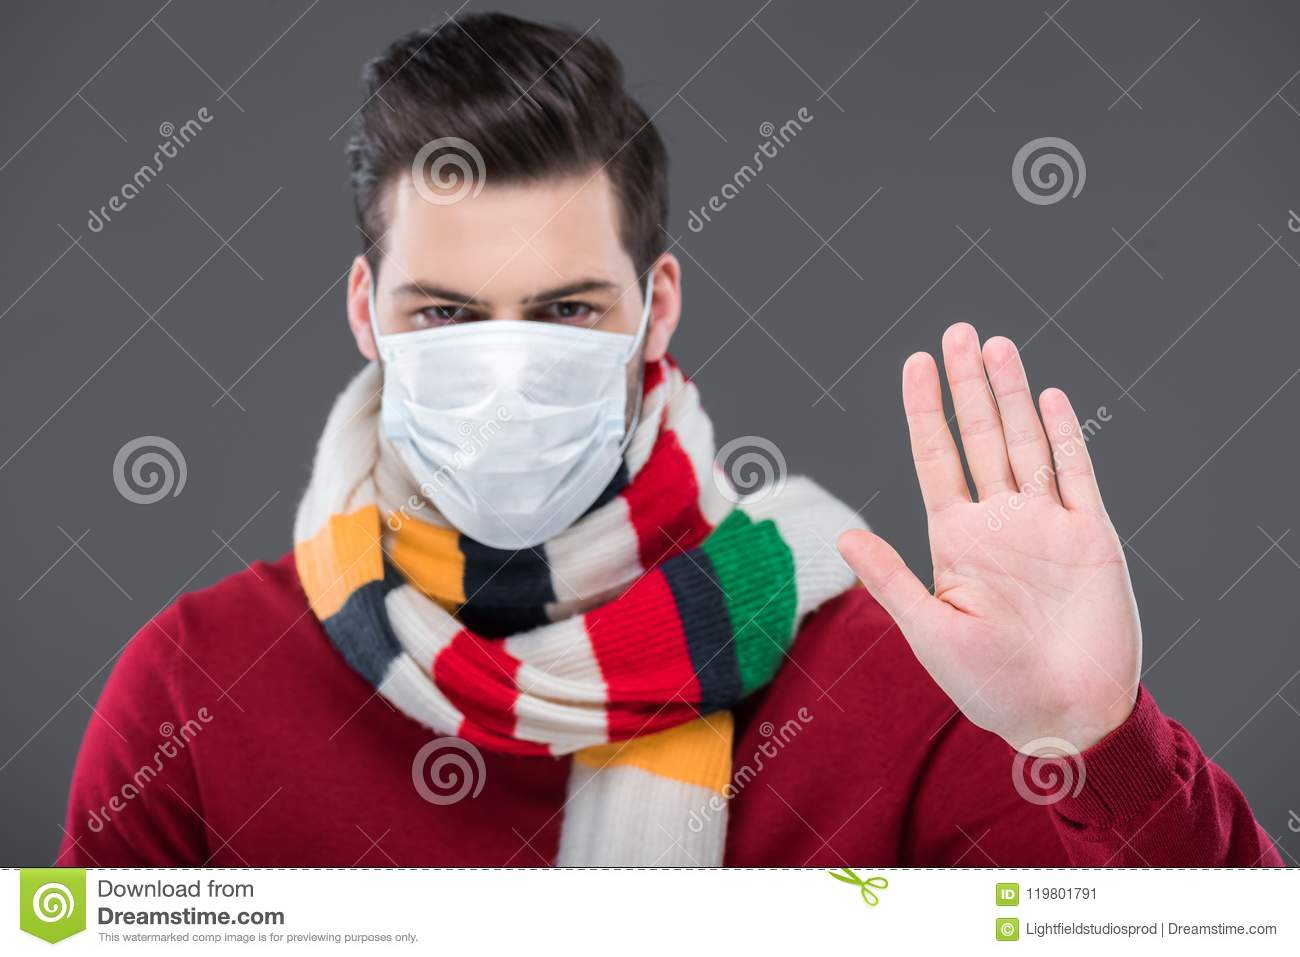mask: (381, 320, 634, 549)
